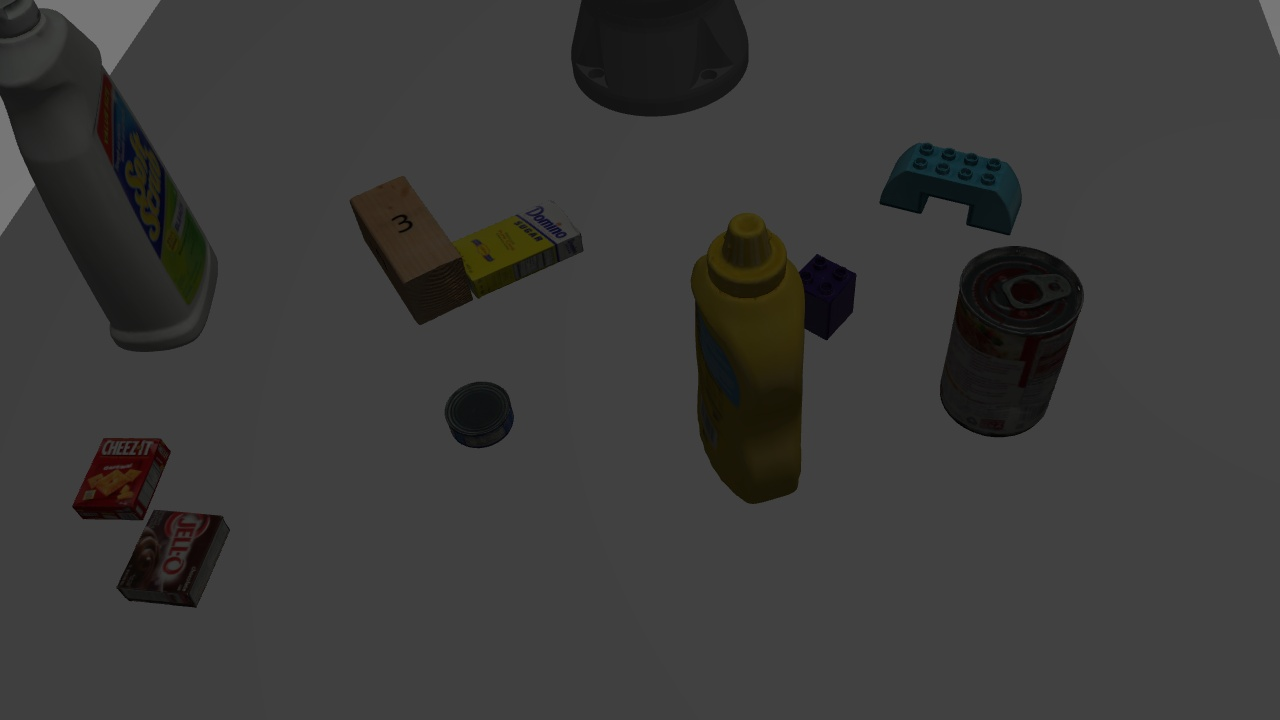mustard_bottle: (683, 215, 820, 502)
pudding_box: (119, 511, 227, 611)
tomato_soup_can: (938, 248, 1076, 436)
wood_block: (343, 180, 465, 321)
